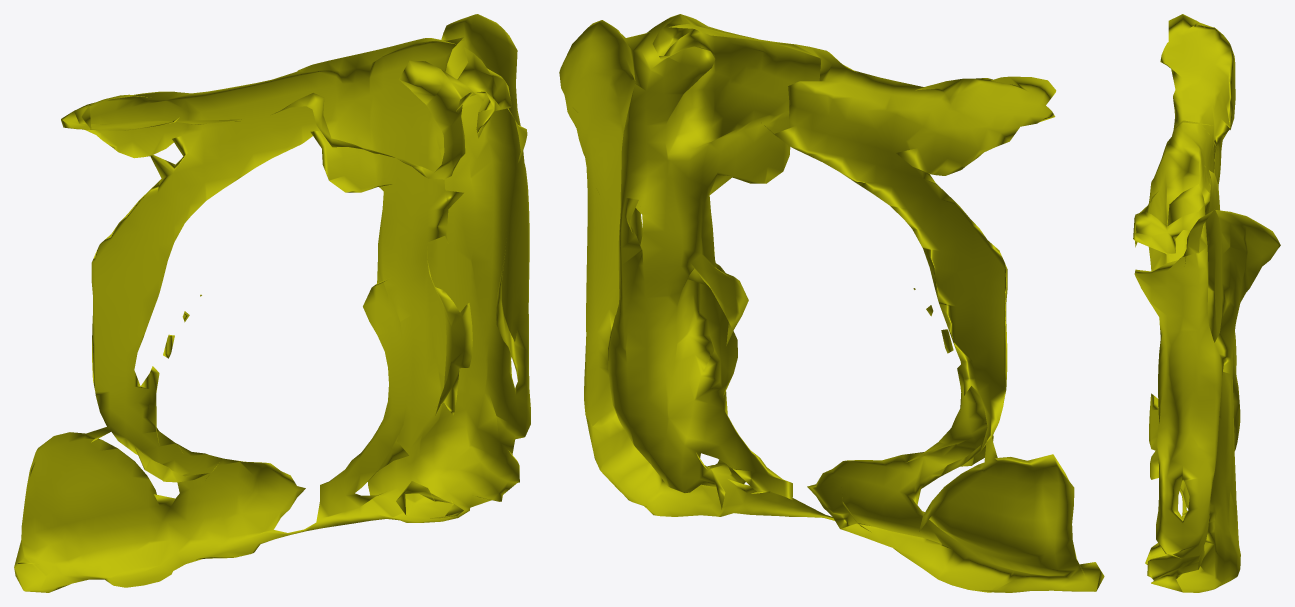
3 views of the same model, side by side, from view 1: azimuth 30°, elevation 25°; view 2: azimuth 150°, elevation 25°; view 3: azimuth 270°, elevation 25° (orthographic). The views are drawn at different scales.
Visible parts, largest first — view 1: world; view 2: world; view 3: world.
Boxes of the visible parts, x1,y1,x2,y2 form: world: (14,14,530,592); world: (559,14,1104,592); world: (1133,14,1280,592).
Bounding box in the file's own units: 31.33 × 29.48 × 9.33.
